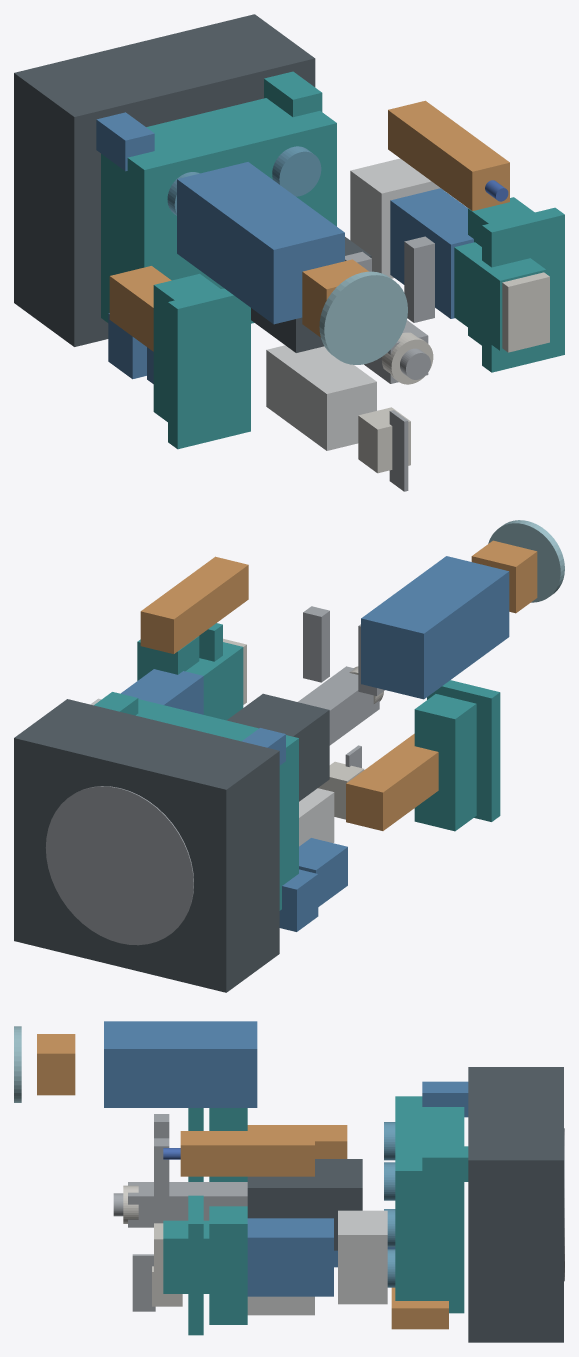
The model's file is dranmar_tumor_resection_tool_bag_deploy.glb.
The picture shows the model from 3 angles, top to bottom: view 1: azimuth 30°, elevation 25°; view 2: azimuth 150°, elevation 25°; view 3: azimuth 270°, elevation 25°; orthographic projection. The views are drawn at different scales.
Parts seen in each view (by area): view 1: Mount_MountBody, SensorTurret_SensorTurretBody, BagDeployer_BagDeployerBody, LeftTraction_LeftPad, ScissorCarriage_ScissorCarriageBody, MarginMarker_MarginMarkerBody, RightTraction_RightPad, BagDeployer_BagRing, UltrasoundPitch_UltrasoundPitchBody, UltrasoundCarriage_UltrasoundCarriageBody, UltrasoundCompliance_UltrasoundComplianceBody, UltrasoundCompliance_UltrasoundFace (+15 smaller); view 2: Mount_MountBody, Mount_MountRing, BagDeployer_BagDeployerBody, LeftTraction_LeftTractionBody, MarginMarker_MarginMarkerBody, RamanProbe_RamanProbeBody, SensorTurret_SensorTurretBody, AspiratorCarriage_AspiratorCarriageBody, LeftTraction_LeftPad, AspiratorRotor_AspiratorRotorBody, UltrasoundCompliance_UltrasoundComplianceBody, BagDeployer_BagRing (+11 smaller); view 3: Mount_MountBody, BagDeployer_BagDeployerBody, SensorTurret_SensorTurretBody, UltrasoundPitch_UltrasoundPitchBody, MarginMarker_MarginMarkerBody, AspiratorCarriage_AspiratorCarriageBody, UltrasoundCarriage_UltrasoundCarriageBody, RightTraction_RightTractionBody, AspiratorRotor_AspiratorRotorBody, UltrasoundCompliance_UltrasoundComplianceBody, BagClosure_BagClosureBody, RightTraction_RightPad (+15 smaller).
Part boxes in pixels (left/top/right/bottom): Mount_MountBody: left=14, top=14, right=315, bottom=346; SensorTurret_SensorTurretBody: left=101, top=98, right=336, bottom=323; BagDeployer_BagDeployerBody: left=177, top=162, right=344, bottom=324; LeftTraction_LeftPad: left=168, top=288, right=250, bottom=449; ScissorCarriage_ScissorCarriageBody: left=266, top=345, right=376, bottom=450; MarginMarker_MarginMarkerBody: left=388, top=100, right=509, bottom=210; RightTraction_RightPad: left=482, top=207, right=564, bottom=372; BagDeployer_BagRing: left=319, top=271, right=407, bottom=364; UltrasoundPitch_UltrasoundPitchBody: left=390, top=188, right=473, bottom=318; UltrasoundCarriage_UltrasoundCarriageBody: left=350, top=158, right=442, bottom=278; UltrasoundCompliance_UltrasoundComplianceBody: left=454, top=242, right=546, bottom=350; UltrasoundCompliance_UltrasoundFace: left=502, top=272, right=549, bottom=352; Mount_MountBody: left=14, top=699, right=279, bottom=992; Mount_MountRing: left=45, top=786, right=193, bottom=945; BagDeployer_BagDeployerBody: left=361, top=556, right=509, bottom=699; LeftTraction_LeftTractionBody: left=414, top=694, right=476, bottom=831; MarginMarker_MarginMarkerBody: left=140, top=556, right=248, bottom=653; RamanProbe_RamanProbeBody: left=346, top=733, right=438, bottom=830; SensorTurret_SensorTurretBody: left=136, top=699, right=298, bottom=910; AspiratorCarriage_AspiratorCarriageBody: left=227, top=693, right=329, bottom=801; LeftTraction_LeftPad: left=427, top=680, right=500, bottom=821; AspiratorRotor_AspiratorRotorBody: left=298, top=666, right=379, bottom=745; UltrasoundCompliance_UltrasoundComplianceBody: left=185, top=642, right=243, bottom=720; BagDeployer_BagRing: left=488, top=520, right=564, bottom=602; Mount_MountBody: left=468, top=1067, right=563, bottom=1342; BagDeployer_BagDeployerBody: left=104, top=1021, right=257, bottom=1107; SensorTurret_SensorTurretBody: left=395, top=1096, right=464, bottom=1313; UltrasoundPitch_UltrasoundPitchBody: left=247, top=1218, right=333, bottom=1296; MarginMarker_MarginMarkerBody: left=180, top=1131, right=314, bottom=1176; AspiratorCarriage_AspiratorCarriageBody: left=247, top=1159, right=362, bottom=1250; UltrasoundCarriage_UltrasoundCarriageBody: left=338, top=1210, right=387, bottom=1304; RightTraction_RightTractionBody: left=209, top=1206, right=247, bottom=1324; AspiratorRotor_AspiratorRotorBody: left=128, top=1182, right=247, bottom=1227; UltrasoundCompliance_UltrasoundComplianceBody: left=163, top=1220, right=209, bottom=1293; BagClosure_BagClosureBody: left=37, top=1034, right=75, bottom=1095; RightTraction_RightPad: left=188, top=1195, right=203, bottom=1335.
Size of the model in its own units: 0.185 by 0.136 by 0.2875.
